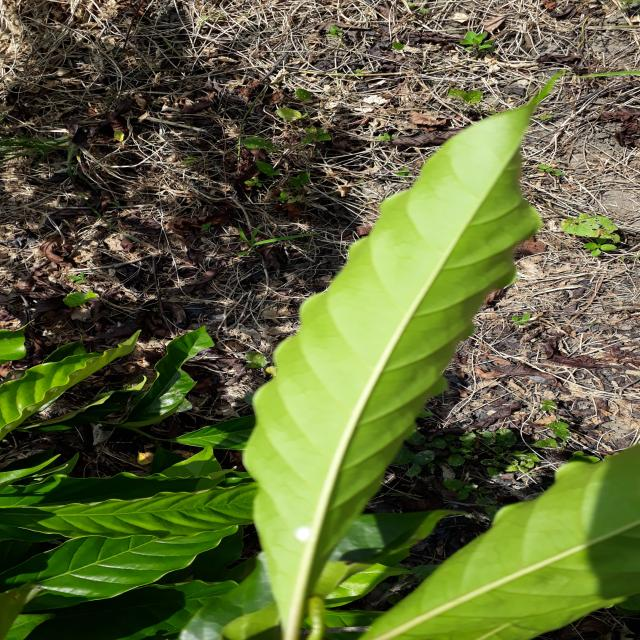Sanas: (231, 97, 543, 640)
